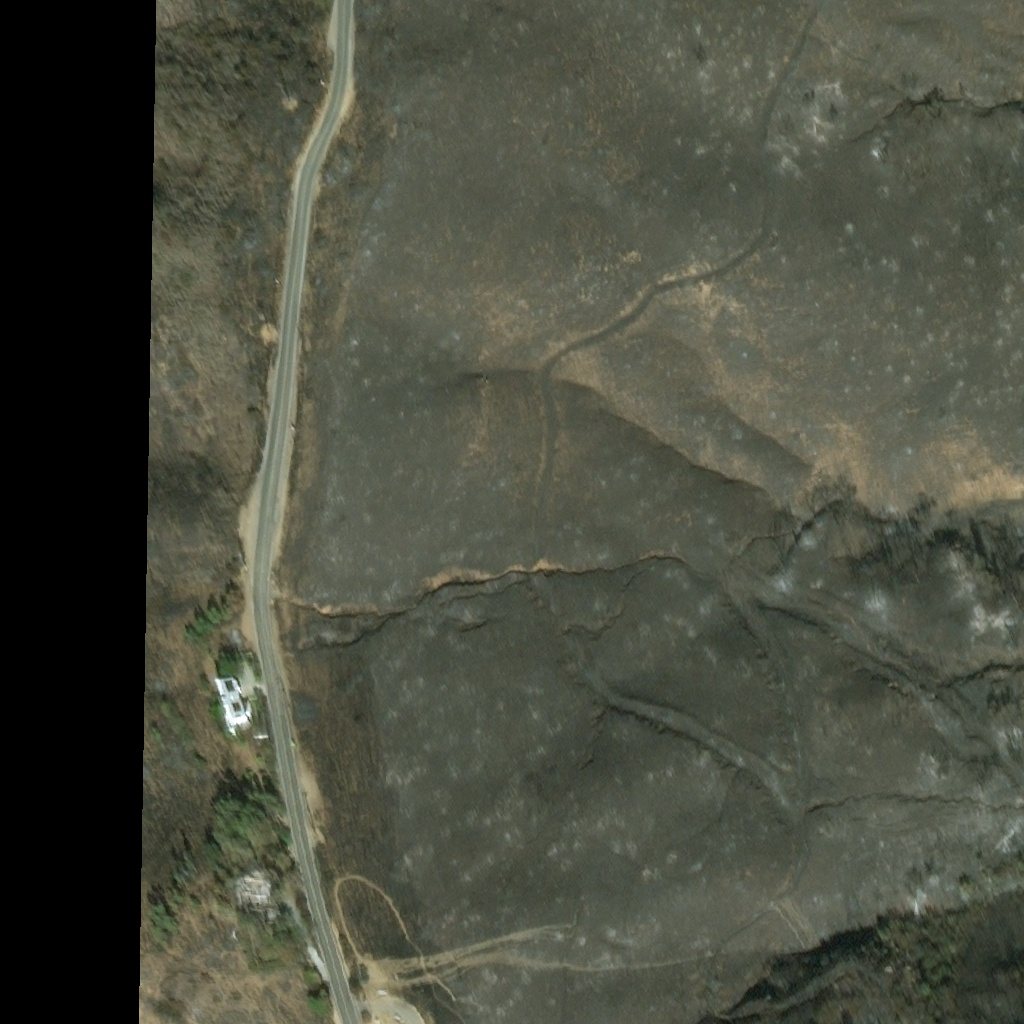0 no-damage: (218, 684, 251, 733)
3 destroyed: (234, 870, 283, 926)
4 un-classified: (356, 959, 367, 977)
